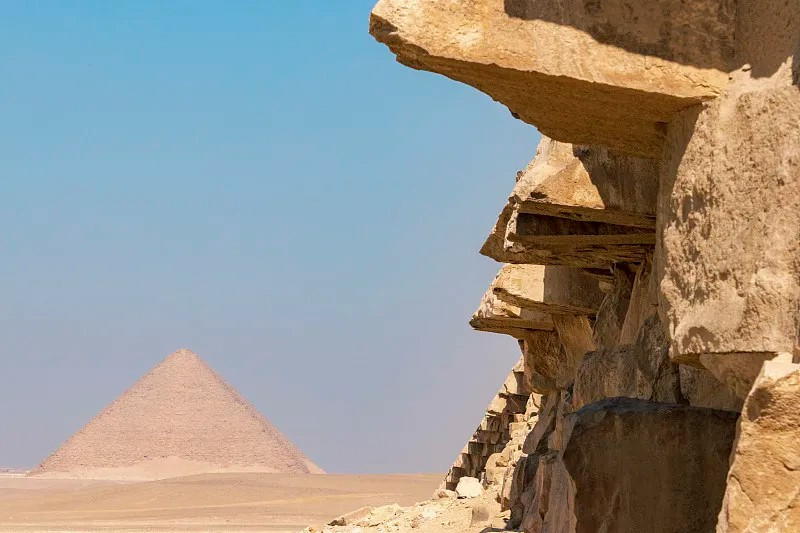Pyramid: (36, 349, 308, 473)
